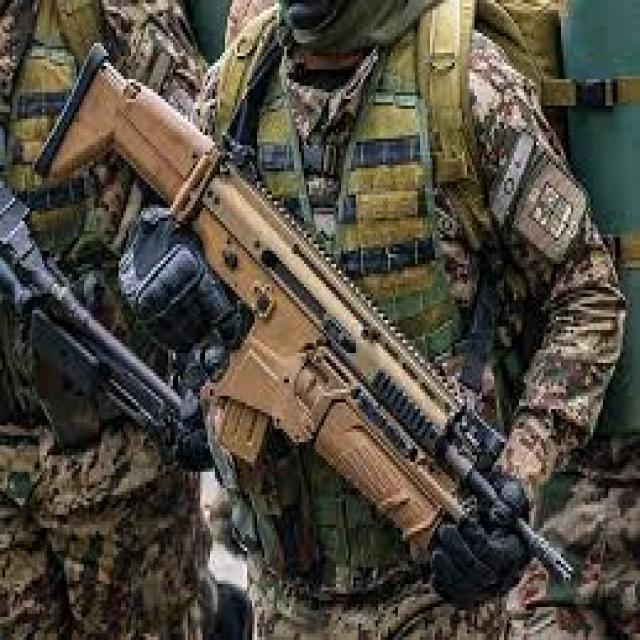Gun: (21, 30, 586, 602)
